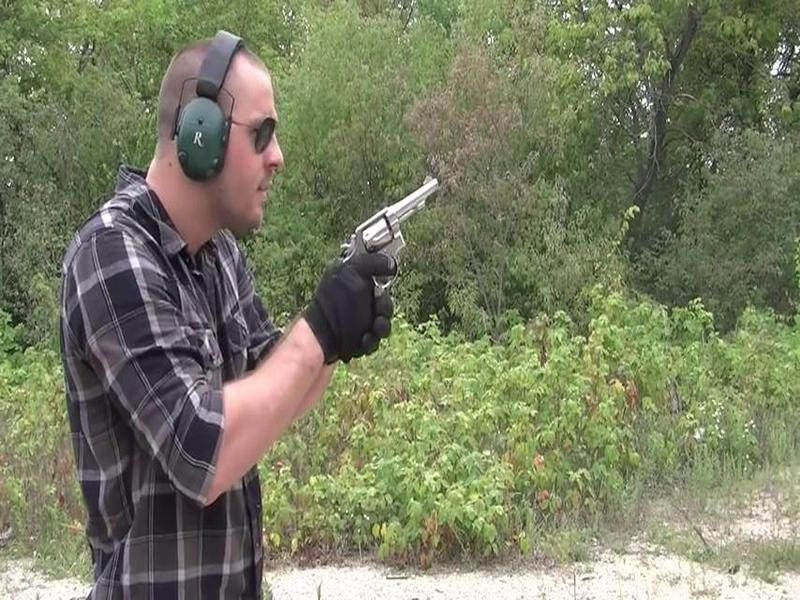Revolver: (351, 167, 465, 306)
